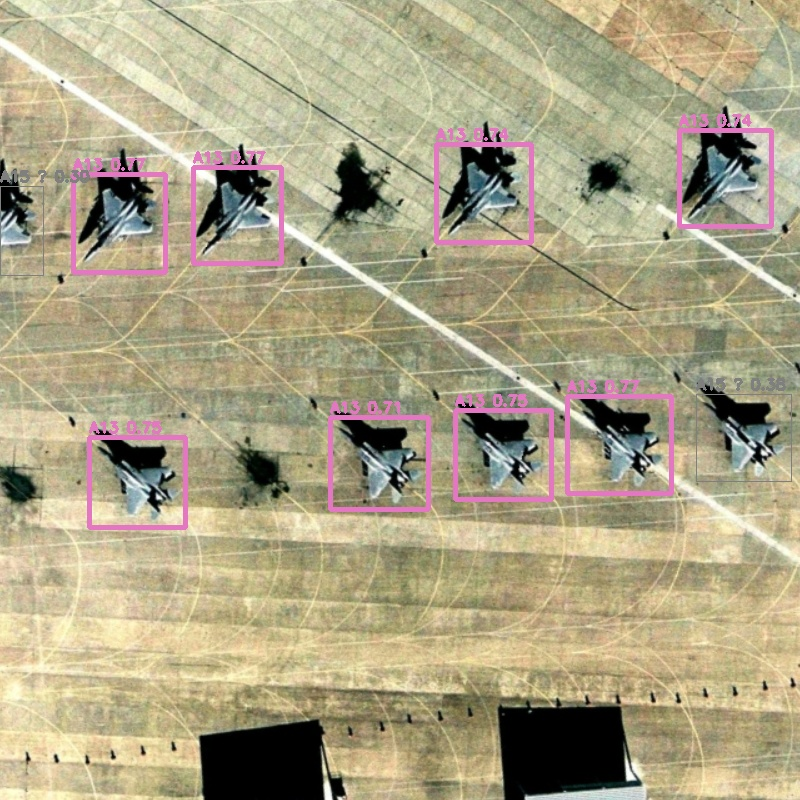A13: (567, 396, 671, 493), (436, 144, 531, 242), (73, 174, 165, 272), (330, 417, 428, 509), (679, 130, 771, 226), (89, 437, 185, 527), (455, 410, 551, 499), (193, 167, 281, 263)
A15: (696, 394, 791, 481), (0, 186, 43, 275)
